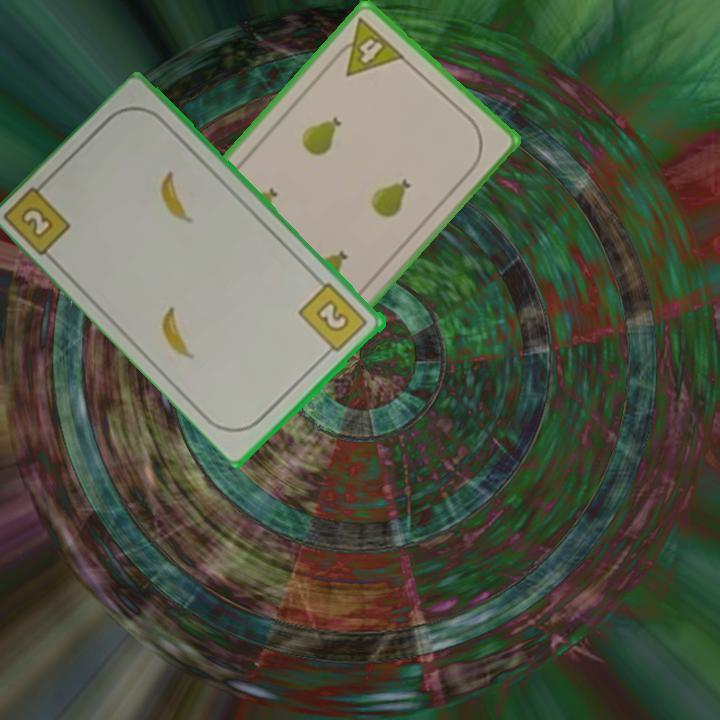2b: (295, 279, 371, 360), (4, 173, 75, 259)
4p: (327, 13, 408, 79)
